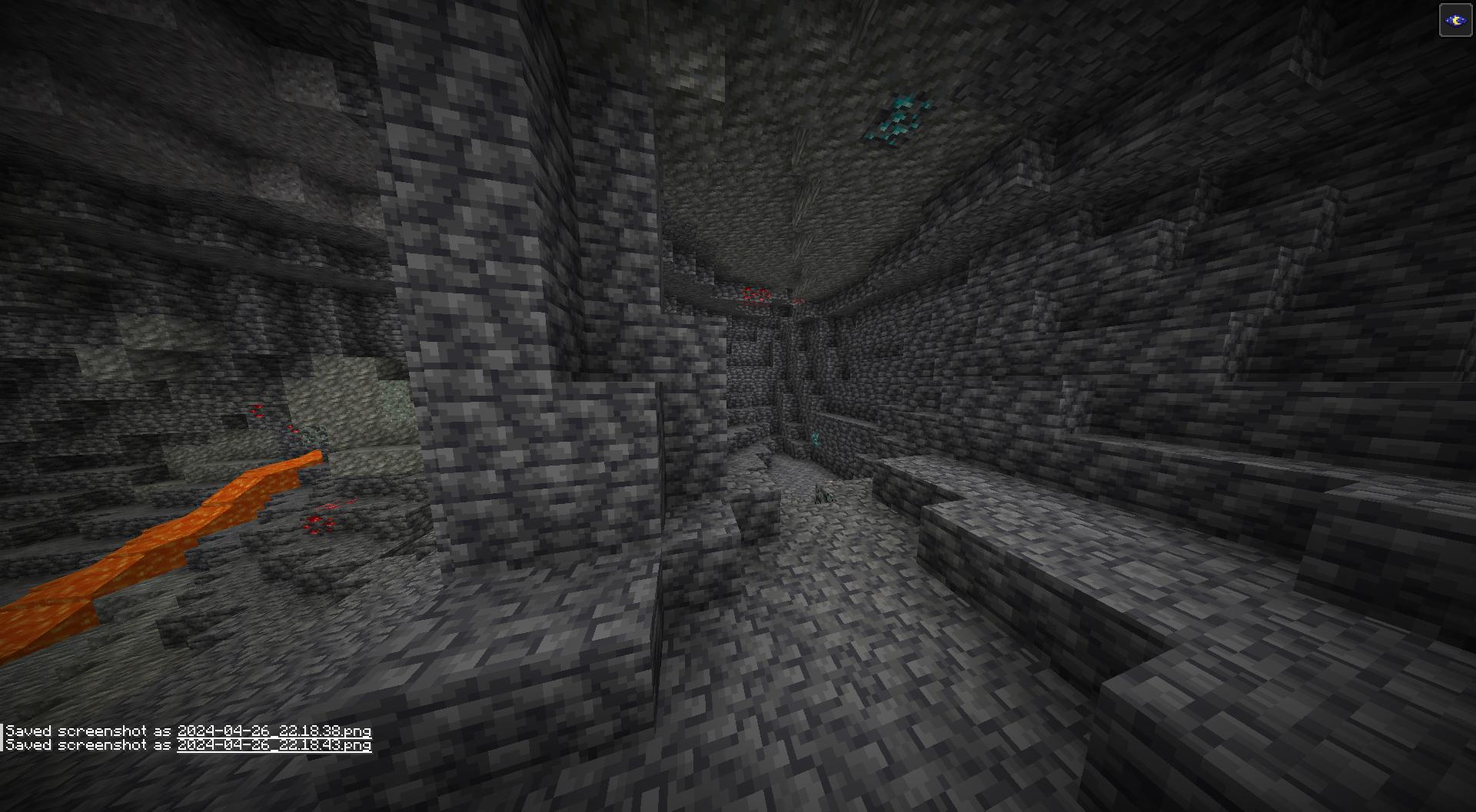diamond ore: (868, 91, 922, 146), (810, 430, 823, 447)
redstone ore: (302, 495, 355, 536), (738, 284, 759, 306), (757, 286, 773, 307)
